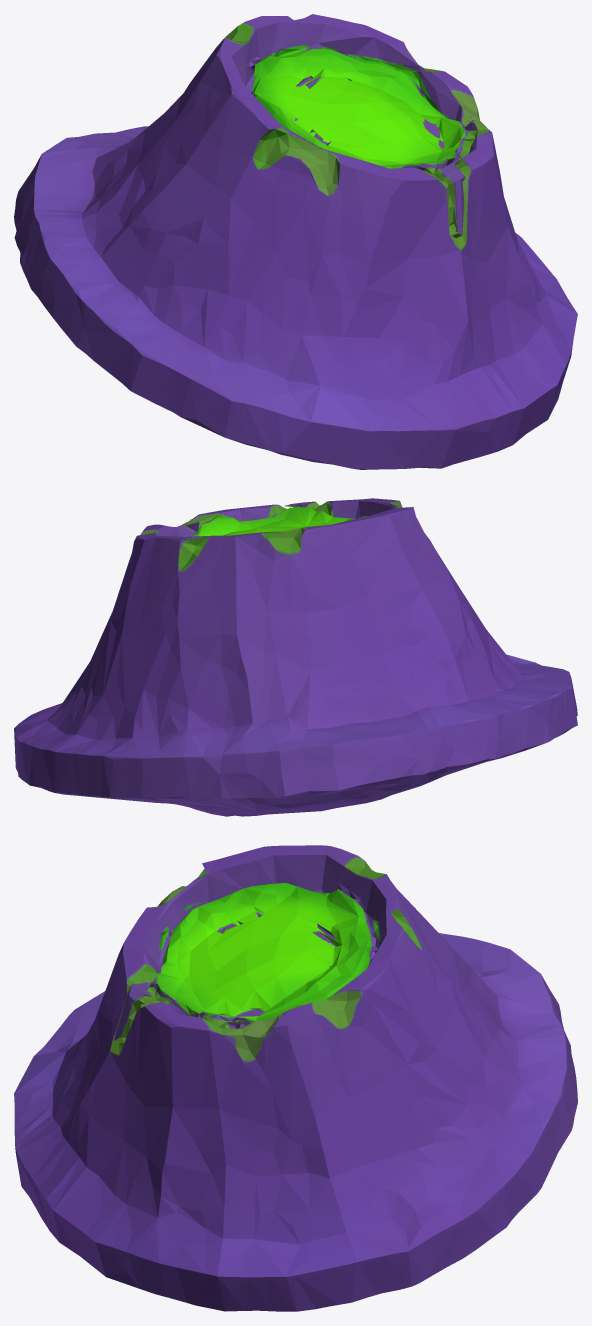
File: volcano.fbx
3 renders of one model, top to bottom at view 1: azimuth 30°, elevation 25°; view 2: azimuth 150°, elevation 25°; view 3: azimuth 270°, elevation 25°, orthographic. The views are drawn at different scales.
Parts seen in each view (by area): view 1: Mesh_0; view 2: Mesh_0; view 3: Mesh_0.
Part boxes in pixels (x1,y1,x2,y2): Mesh_0: (14, 14, 577, 469); Mesh_0: (14, 498, 577, 816); Mesh_0: (14, 845, 577, 1311).
Bounding box in the file's own units: 1.56 × 1 × 1.55.
Materials: 1 (1 with a texture image).
